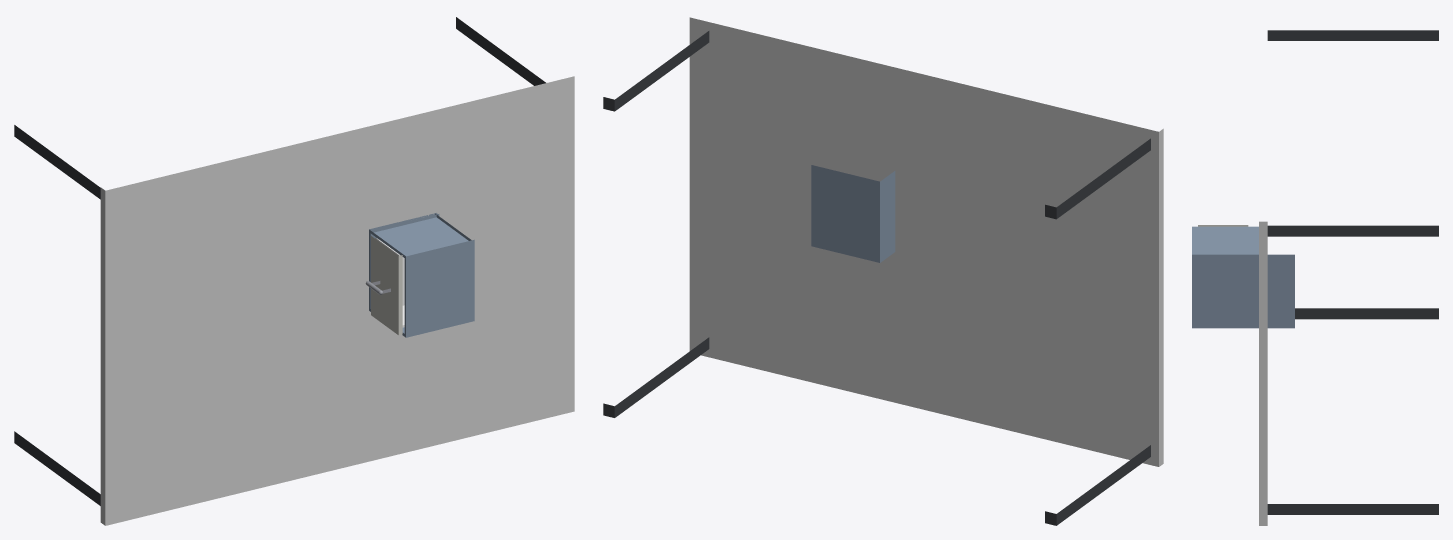
File: t2_67286acdf9.glb
3 views of the same model, side by side, from view 1: azimuth 30°, elevation 25°; view 2: azimuth 150°, elevation 25°; view 3: azimuth 270°, elevation 25° (orthographic). The views are drawn at different scales.
Visible parts, largest first — view 1: s0, s1, s2; view 2: s0, s1; view 3: s0, s1.
Boxes of the visible parts, x1,y1,x2,y2 form: s0: [14, 17, 574, 525]; s1: [369, 213, 474, 337]; s2: [365, 236, 404, 335]; s0: [603, 17, 1163, 525]; s1: [811, 165, 895, 262]; s0: [1259, 30, 1438, 525]; s1: [1192, 226, 1294, 328].
Bounding box in the file's own units: 2.05 × 1.4 × 1.03.
